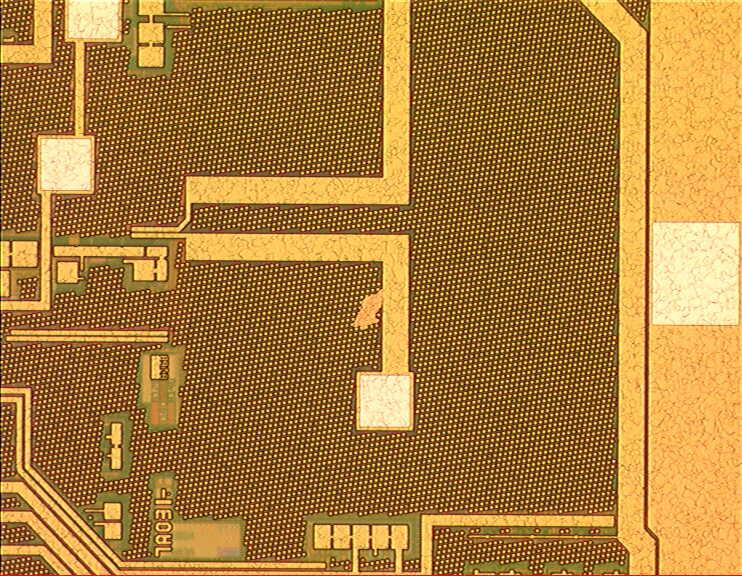BLOCK ETCH: (347, 285, 394, 337)
